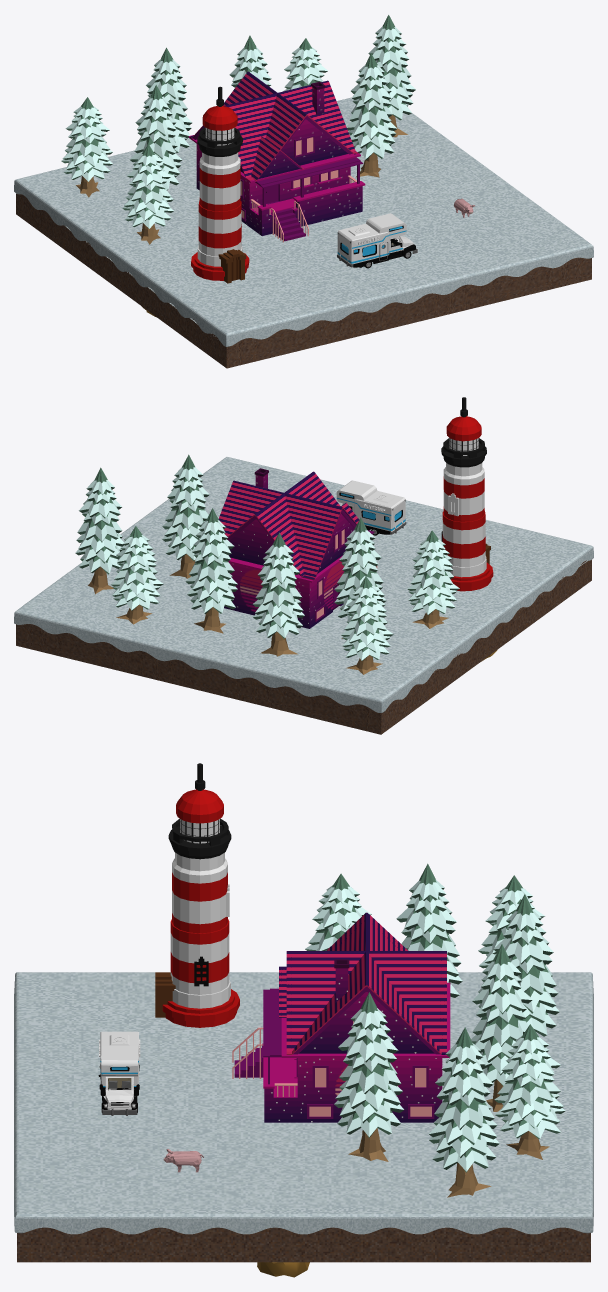
The picture shows the model from 3 angles, top to bottom: view 1: azimuth 30°, elevation 25°; view 2: azimuth 150°, elevation 25°; view 3: azimuth 270°, elevation 25°; orthographic projection. The views are drawn at different scales.
Visible parts, largest first — view 1: Cube.003, Cube.156, OBJRANDOM_LIGHTHOUSE, VEHICLES_CAMPER; view 2: Cube.003, Cube.156, OBJRANDOM_LIGHTHOUSE, VEHICLES_CAMPER; view 3: Cube.003, Cube.156, OBJRANDOM_LIGHTHOUSE, VEHICLES_CAMPER, UNDERGROUND_T_REX_BONES.
Boxes of the visible parts, x1=… form: Cube.003: x1=14, y1=15, x2=593, y2=368; Cube.156: x1=188, y1=71, x2=365, y2=242; OBJRANDOM_LIGHTHOUSE: x1=191, y1=86, x2=249, y2=283; VEHICLES_CAMPER: x1=337, y1=213, x2=417, y2=268; Cube.003: x1=14, y1=454, x2=593, y2=734; Cube.156: x1=218, y1=468, x2=377, y2=628; OBJRANDOM_LIGHTHOUSE: x1=441, y1=397, x2=493, y2=591; VEHICLES_CAMPER: x1=336, y1=480, x2=406, y2=535; Cube.003: x1=14, y1=863, x2=593, y2=1262; Cube.156: x1=232, y1=912, x2=450, y2=1122; OBJRANDOM_LIGHTHOUSE: x1=155, y1=763, x2=239, y2=1027; VEHICLES_CAMPER: x1=98, y1=1031, x2=140, y2=1115; UNDERGROUND_T_REX_BONES: x1=257, y1=1262, x2=309, y2=1277.
Bounding box in the file's own units: 4040 × 2463 × 4040.
36 materials, 5 textured.
